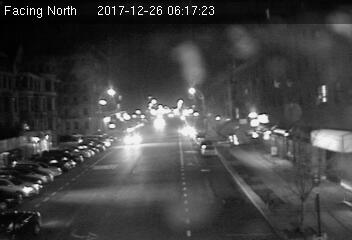car: (123, 131, 144, 145), (201, 145, 218, 159)
